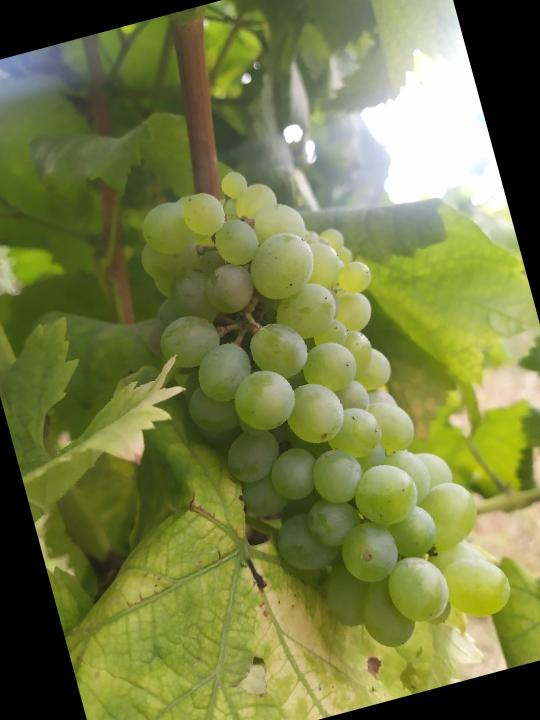grape: (120, 126, 522, 687)
